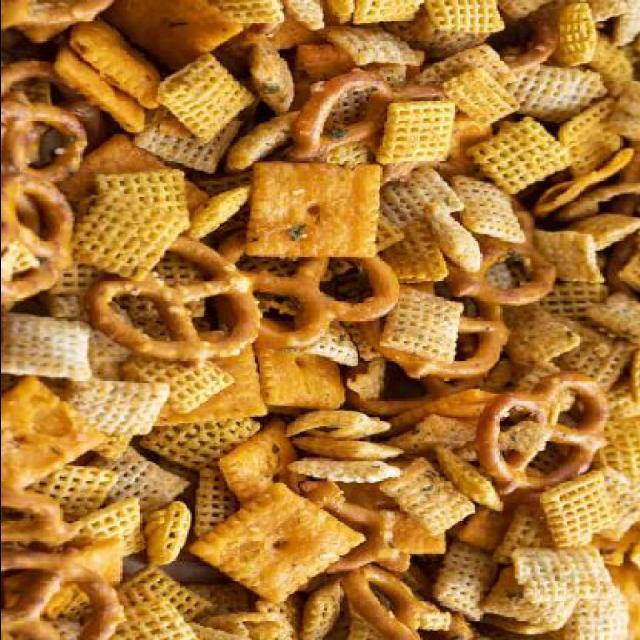Salatini packaged: (6, 11, 626, 624)
